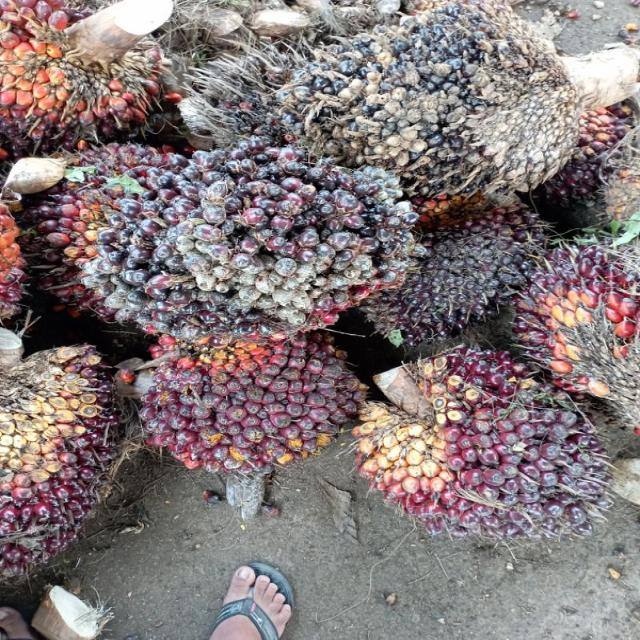fraksi 00: (280, 6, 599, 200), (96, 141, 419, 332)
fraksi 1: (357, 353, 612, 546), (124, 327, 376, 476)
fraksi 3: (0, 0, 161, 156)
